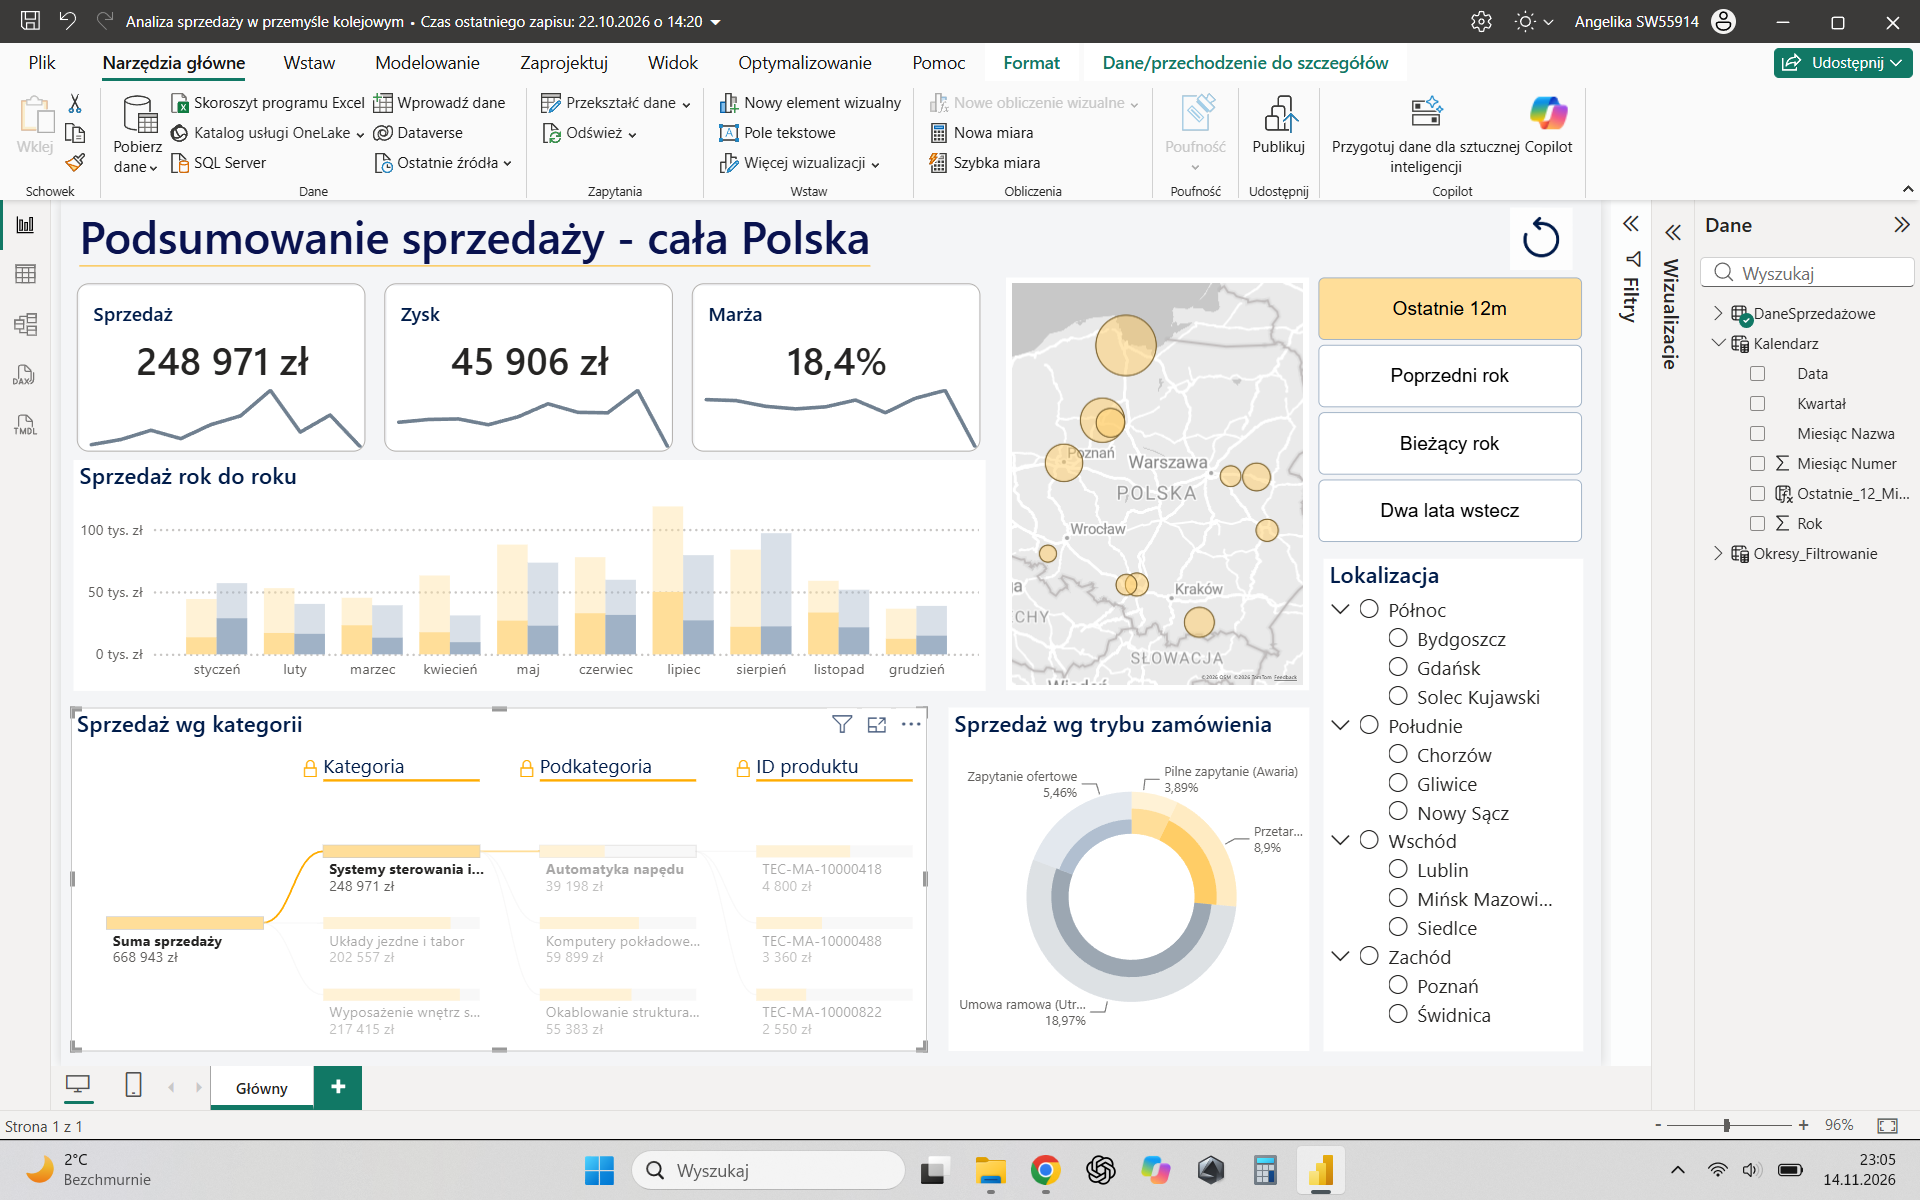

This screenshot's page, from the dashboard's own definition file:
{"tool":"powerbi","page":{"name":"Główny","canvas":[1280,720],"ordinal":0},"visuals":[{"type":"textbox","box":[10,0,1028.3,63.3],"z":0},{"type":"cardVisual","title":"Sprzedaż","fields":{"Data":["DaneSprzedażowe.SumaSprzedaży"]},"box":[8.4,64.7,250,150],"z":0},{"type":"cardVisual","title":"Sprzedaż","fields":{"Data":["Sum(DaneSprzedażowe.Zysk)"]},"box":[264,64.9,250,150],"z":0,"group":"g2"},{"type":"cardVisual","title":"Sprzedaż","fields":{"Data":["DaneSprzedażowe.Marża"]},"box":[519.4,64.9,250,150],"z":0,"group":"g1"},{"type":"lineChart","fields":{"Category":["Kalendarz.Miesiąc Nazwa"],"Y":["Sum(DaneSprzedażowe.Przychód)"]},"box":[10.2,144.9,253.3,66.7],"z":1000},{"type":"lineChart","fields":{"Category":["Kalendarz.Miesiąc Nazwa"],"Y":["Sum(DaneSprzedażowe.Zysk)"]},"box":[265.8,145.1,253.3,66.7],"z":1000,"group":"g2"},{"type":"lineChart","fields":{"Category":["Kalendarz.Miesiąc Nazwa"],"Y":["DaneSprzedażowe.Marża"]},"box":[521.2,145.1,253.3,66.7],"z":1000,"group":"g1"},{"type":"clusteredColumnChart","title":"Sprzedaż rok do roku","fields":{"Category":["Kalendarz.Miesiąc Nazwa"],"Y":["DaneSprzedażowe.Suma sprzedaży","DaneSprzedażowe.Suma sprzedaży LY"]},"box":[10.1,216.2,758.2,191.7],"z":1000},{"type":"azureMap","title":"Sprzedaż wg regionu","fields":{"Size":["DaneSprzedażowe.SumaSprzedaży"],"Category":["DaneSprzedażowe.Województwo","DaneSprzedażowe.Miasto"]},"box":[785.6,64.9,252.3,343.1],"z":2000},{"type":"listSlicer","title":"Lokalizacja","fields":{"Values":["DaneSprzedażowe.Region handlowy","DaneSprzedażowe.Miasto"]},"box":[1049.4,298.4,216.2,409.4],"z":3000},{"type":"image","box":[1195,5.8,70.6,51.9],"z":4000},{"type":"ChicletSlicer1448559807354","title":"Okres","fields":{"Category":["Okresy_Filtrowanie.Okres"],"Values":["CountNonNull(Okresy_Filtrowanie.Okres)"]},"box":[1037.8,57.7,233.5,239.3],"z":5000},{"type":"donutChart","title":"Sprzedaż wg trybu zamówienia","fields":{"Y":["DaneSprzedażowe.Suma sprzedaży"],"Series":["DaneSprzedażowe.Tryb zamówienia"]},"box":[738,422.3,299.8,285.4],"z":6000},{"type":"decompositionTreeVisual","title":"Sprzedaż wg kategorii","fields":{"Analyze":["DaneSprzedażowe.Suma sprzedaży"],"ExplainBy":["DaneSprzedażowe.Kategoria","DaneSprzedażowe.Podkategoria","DaneSprzedażowe.ID produktu"]},"box":[8.6,422.3,712.1,285.4],"z":7000},{"type":"group","id":"g1","title":"Group 2","box":[519.4,64.9,255.4,150],"z":9000},{"type":"group","id":"g2","title":"Group 2","box":[264,64.9,255.4,150],"z":9001},{"type":"textbox","box":[21.6,77.9,180.3,31.7],"z":10001},{"type":"textbox","box":[277.3,78.1,180.3,31.7],"z":10001,"group":"g2"},{"type":"textbox","box":[532.7,78.1,180.3,31.7],"z":10001,"group":"g1"}]}

Visuals, with their boxes on the page's 1280x720 design canvas (x1, y1, x2, y2). These are canvas units, not pixel positions in the 1920x1200 screenshot, which may show the page scaled, cropped or inside an application window:
textbox: [x1=10, y1=0, x2=1038, y2=63]
"Sprzedaż" cardVisual: [x1=8, y1=65, x2=258, y2=215]
"Sprzedaż" cardVisual: [x1=264, y1=65, x2=514, y2=215]
"Sprzedaż" cardVisual: [x1=519, y1=65, x2=769, y2=215]
lineChart - Kalendarz.Miesiąc Nazwa x Sum(DaneSprzedażowe.Przychód): [x1=10, y1=145, x2=264, y2=212]
lineChart - Kalendarz.Miesiąc Nazwa x Sum(DaneSprzedażowe.Zysk): [x1=266, y1=145, x2=519, y2=212]
lineChart - Kalendarz.Miesiąc Nazwa x DaneSprzedażowe.Marża: [x1=521, y1=145, x2=774, y2=212]
"Sprzedaż rok do roku" clusteredColumnChart: [x1=10, y1=216, x2=768, y2=408]
"Sprzedaż wg regionu" azureMap: [x1=786, y1=65, x2=1038, y2=408]
"Lokalizacja" listSlicer: [x1=1049, y1=298, x2=1266, y2=708]
image: [x1=1195, y1=6, x2=1266, y2=58]
"Okres" ChicletSlicer1448559807354: [x1=1038, y1=58, x2=1271, y2=297]
"Sprzedaż wg trybu zamówienia" donutChart: [x1=738, y1=422, x2=1038, y2=708]
"Sprzedaż wg kategorii" decompositionTreeVisual: [x1=9, y1=422, x2=721, y2=708]
"Group 2" group: [x1=519, y1=65, x2=775, y2=215]
"Group 2" group: [x1=264, y1=65, x2=519, y2=215]
textbox: [x1=22, y1=78, x2=202, y2=110]
textbox: [x1=277, y1=78, x2=458, y2=110]
textbox: [x1=533, y1=78, x2=713, y2=110]
